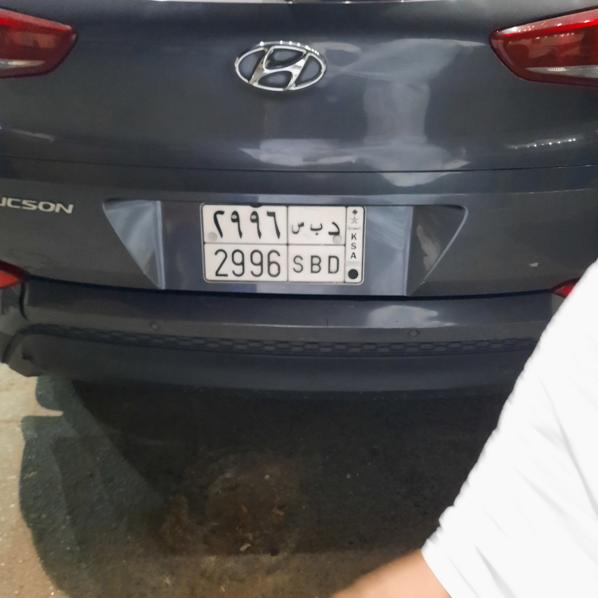numberplate: (203, 205, 363, 283)
